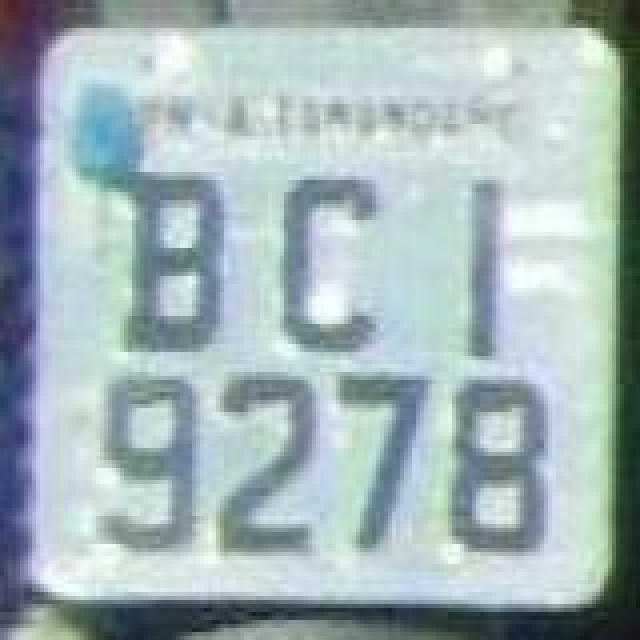1: (458, 174, 502, 362)
2: (210, 368, 318, 560)
7: (332, 372, 436, 556)
8: (444, 374, 556, 562)
9: (100, 368, 204, 560)
B: (116, 170, 228, 358)
C: (274, 170, 382, 358)
